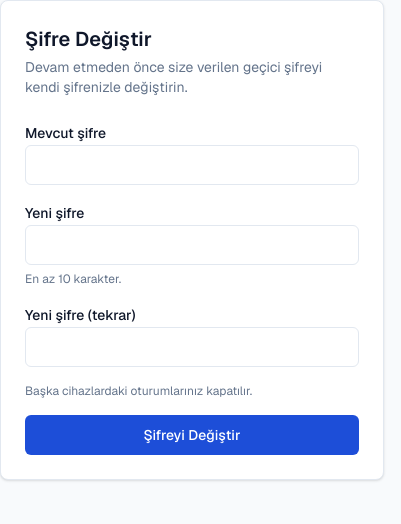
ChangePasswordForm › does not send a confirmation that differs
Type "Temp-Password-1" into the password field labelled "Mevcut şifre". click: (192, 165)
box: [25,145,359,185]
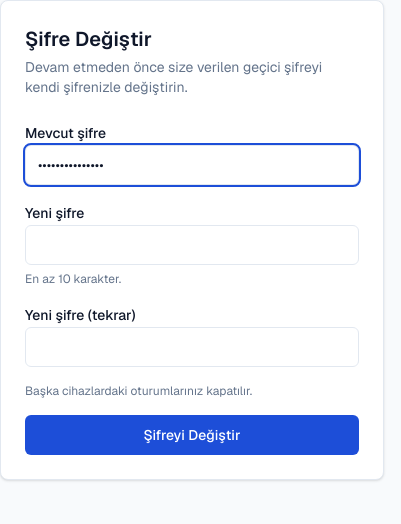
Type "My-Own-Password-1" into the password field labelled "Yeni şifre". click: (192, 245)
box: [25,225,359,265]
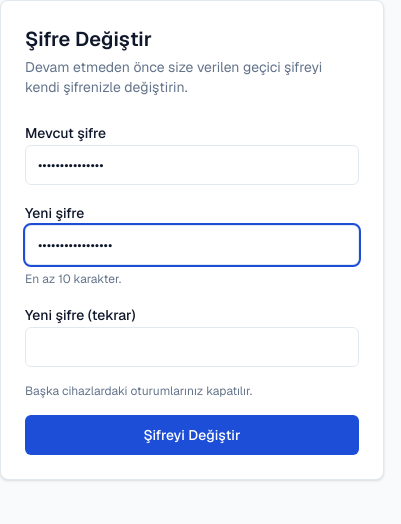
Type "My-Own-Password-2" into the password field labelled "Yeni şifre (tekrar)". click: (192, 347)
box: [25,327,359,367]
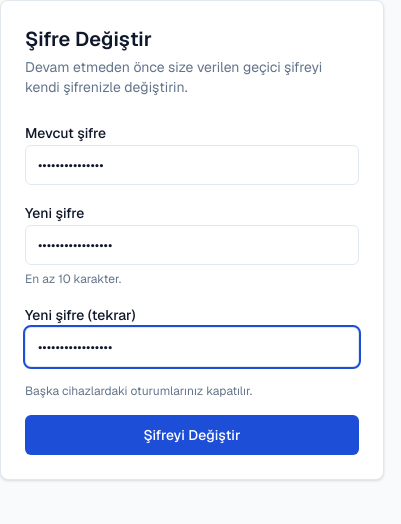
Click the button "Şifreyi Değiştir". click: (192, 435)
box: [25,415,359,455]
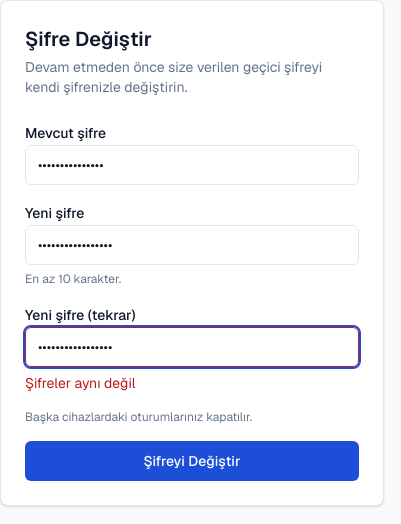
Result: the text "Şifreler aynı değil" is shown at [25,374,135,392]
